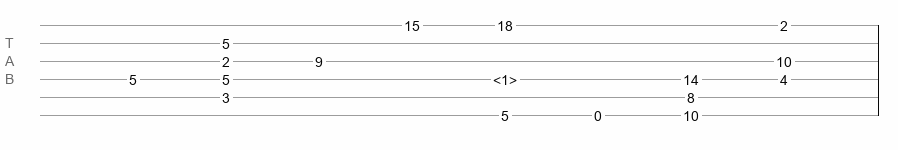0: (594, 108, 602, 118)
10: (683, 108, 699, 118), (776, 54, 792, 64)
14: (683, 72, 699, 82)
15: (404, 18, 420, 28)
18: (497, 18, 513, 28)
2: (222, 54, 230, 64), (780, 18, 788, 28)
3: (222, 90, 230, 100)
4: (780, 72, 788, 82)
5: (129, 72, 137, 82), (222, 72, 230, 82), (222, 36, 230, 46), (501, 108, 509, 118)
8: (687, 90, 695, 100)
9: (315, 54, 323, 64)
harmonic: (493, 72, 517, 82)
